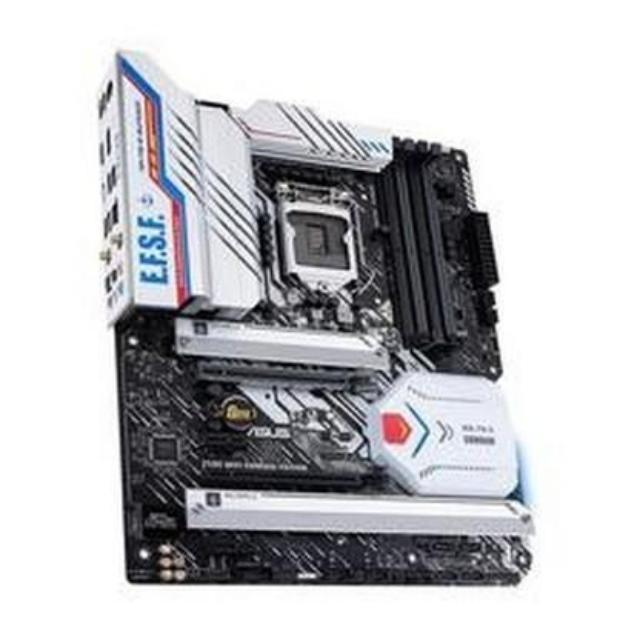Mainboard: (102, 72, 538, 596)
